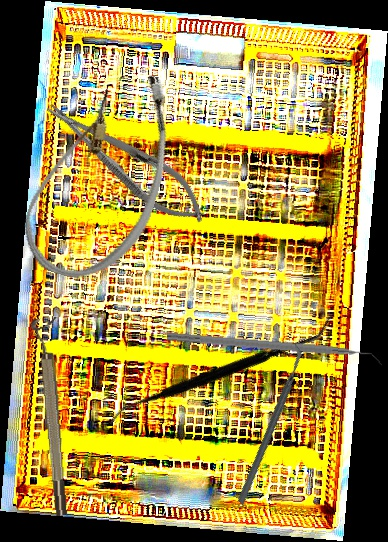Cannula: (12, 52, 191, 295)
Chopper: (186, 342, 352, 507), (165, 331, 384, 372)
Fixation Ring: (30, 317, 71, 517)
Needle Holder: (36, 87, 217, 236)
Spatula Surgical: (106, 247, 333, 494)
